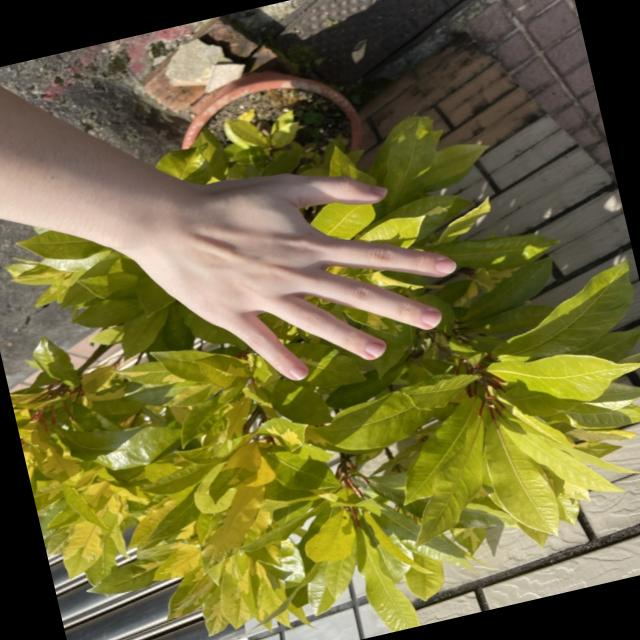Nail: (419, 310, 440, 326), (433, 259, 455, 273), (364, 342, 384, 356), (287, 365, 306, 379), (369, 184, 386, 194)
